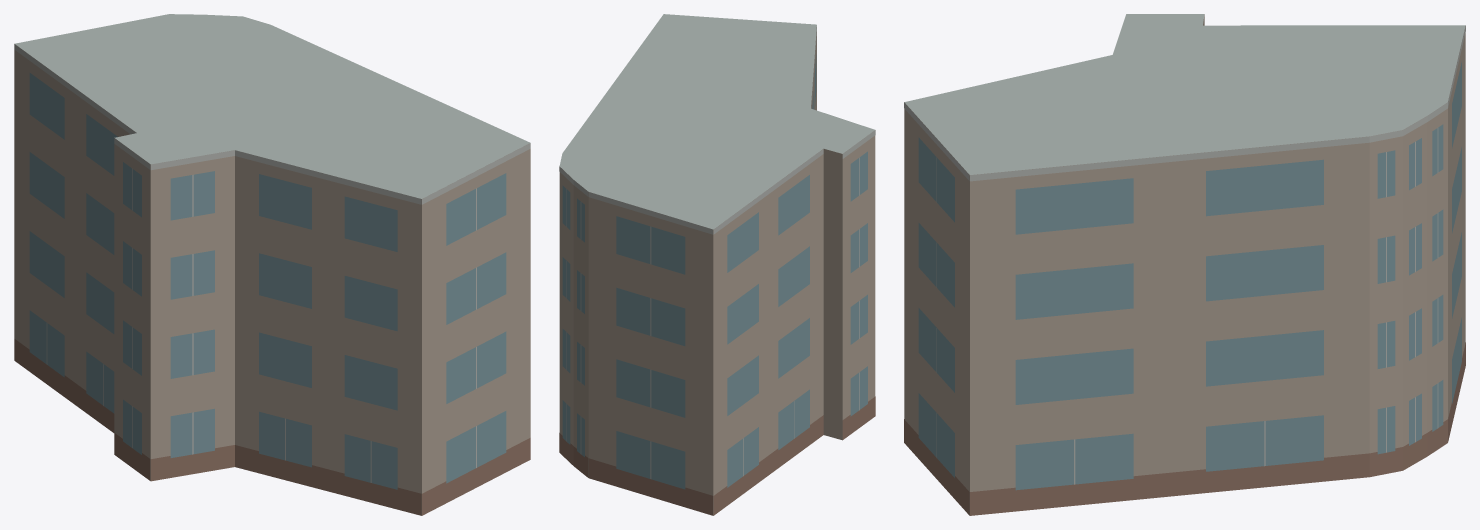
The model's file is survey-upis-32464765.glb.
The picture shows the model from 3 angles, left to right: view 1: azimuth 30°, elevation 25°; view 2: azimuth 150°, elevation 25°; view 3: azimuth 270°, elevation 25°; orthographic projection. The views are drawn at different scales.
Parts seen in each view (by area): view 1: survey-upis-32464765.tmp; view 2: survey-upis-32464765.tmp; view 3: survey-upis-32464765.tmp.
Boxes of the visible parts, bbox=[...] form: survey-upis-32464765.tmp: bbox=[14, 14, 530, 515]; survey-upis-32464765.tmp: bbox=[559, 14, 875, 515]; survey-upis-32464765.tmp: bbox=[904, 14, 1465, 515].
Bounding box in the file's own units: 13.4 × 13.2 × 19.72.
